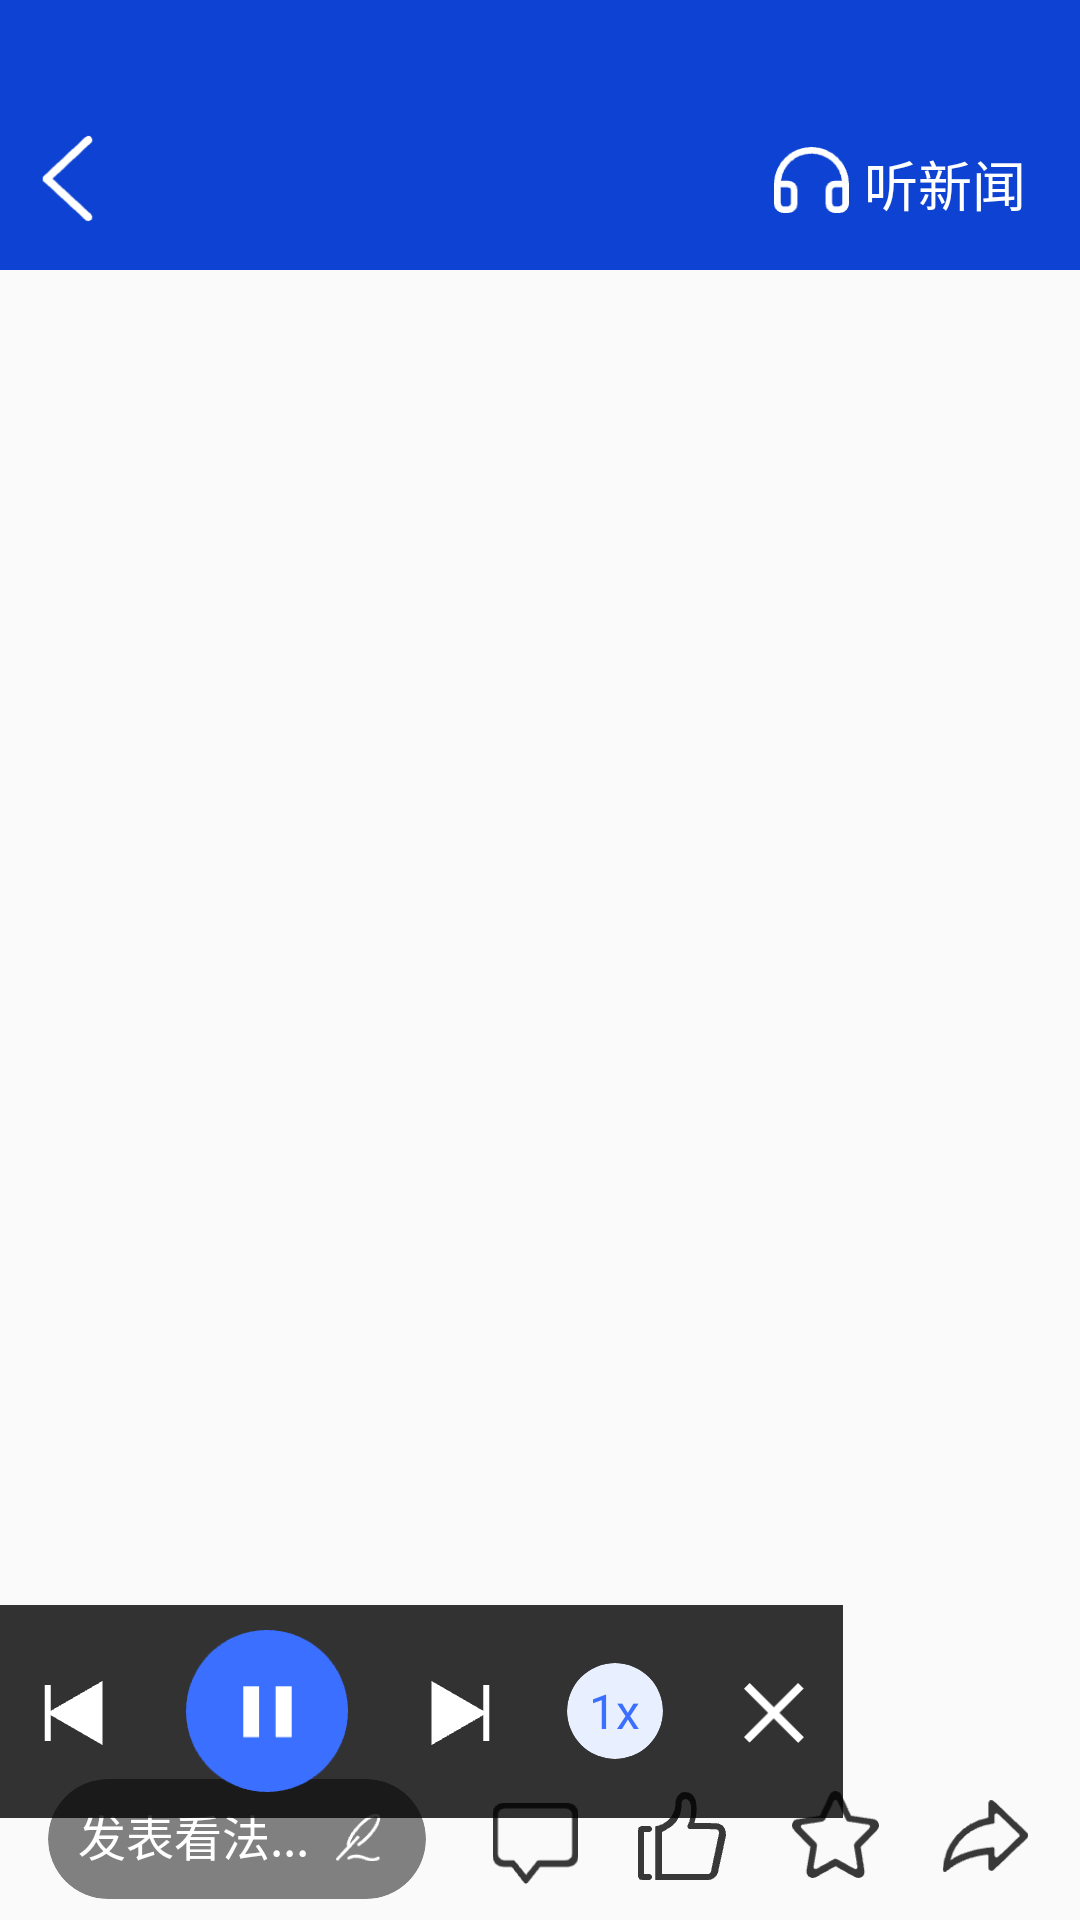

Where to tap for icons on this 1080px×1920px app screen, as point (x, y):
cancel cross: point (774, 1713)
next: point (460, 1713)
previous: point (73, 1713)
write words: point (358, 1836)
收藏图标，点我收藏该新闻: point (835, 1834)
暂停或播放: point (267, 1711)
点赞图标，点我进行点赞: point (684, 1835)
评论图标，点我进行评论: point (535, 1843)
转发图标，点我转发该新闻: point (985, 1836)
返回箭头: point (67, 178)
